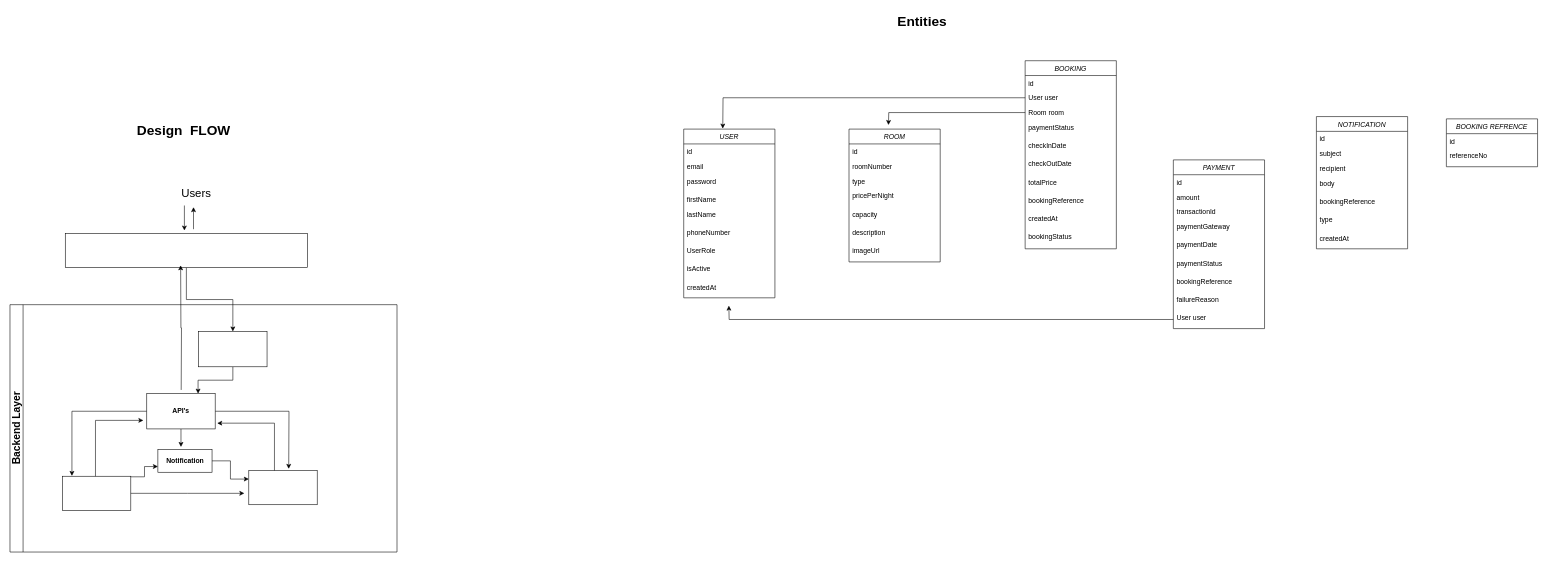
This 1548x562 diagram has some shape labels left out. Here are the shapes that lost their labels. From the top down, the centre of each, then its label:
(186,250): FRONTEND(Client)
(232,349): Authentication
(96,493): Payment Gateway
(282,487): Database
